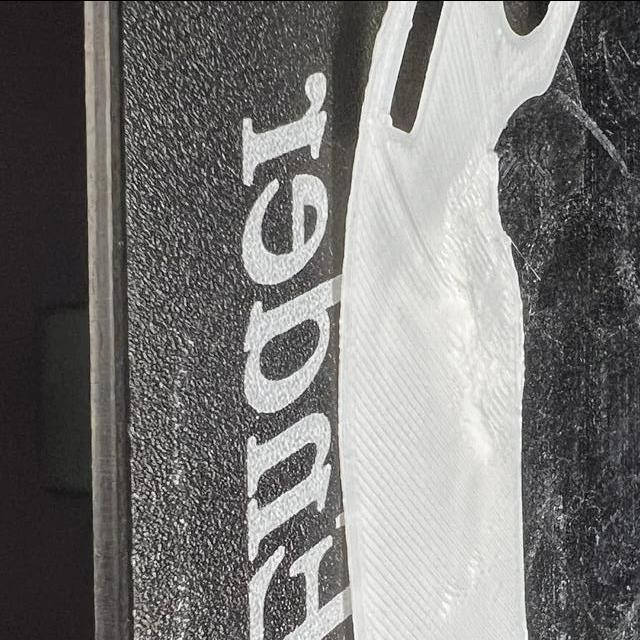Warping: (337, 0, 392, 176)
